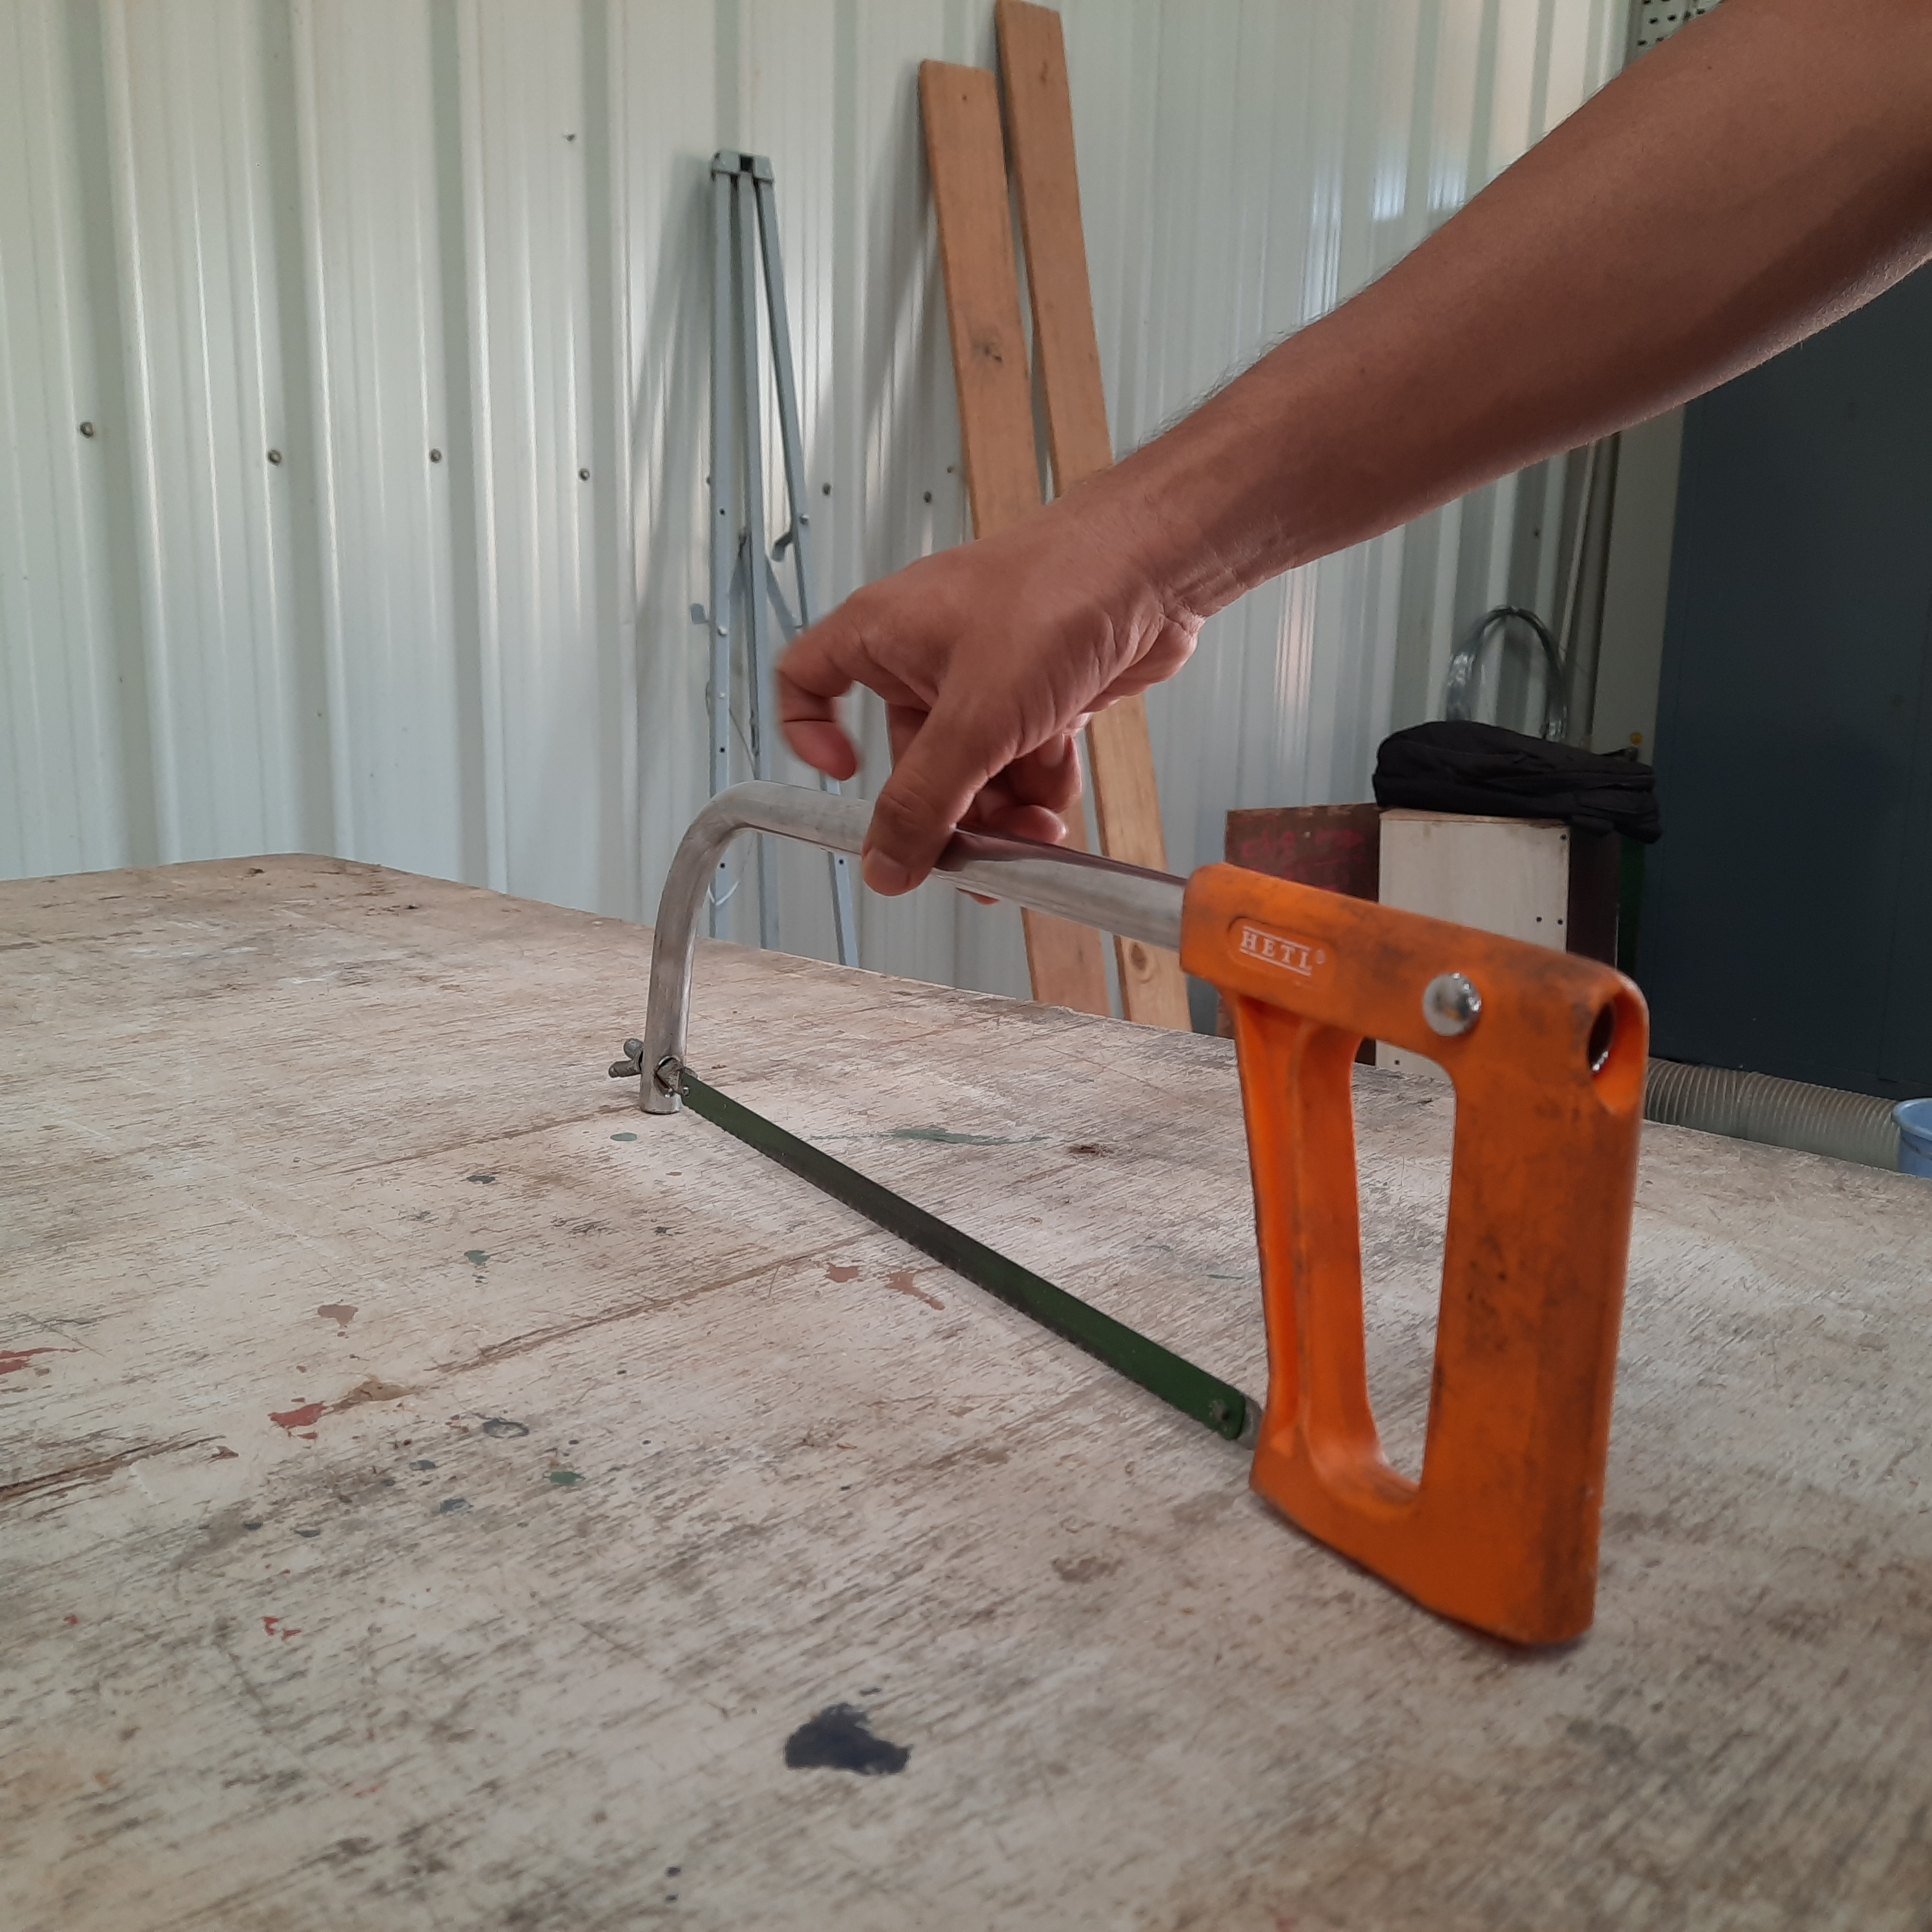Hexaframe: (607, 768, 1674, 1663)
